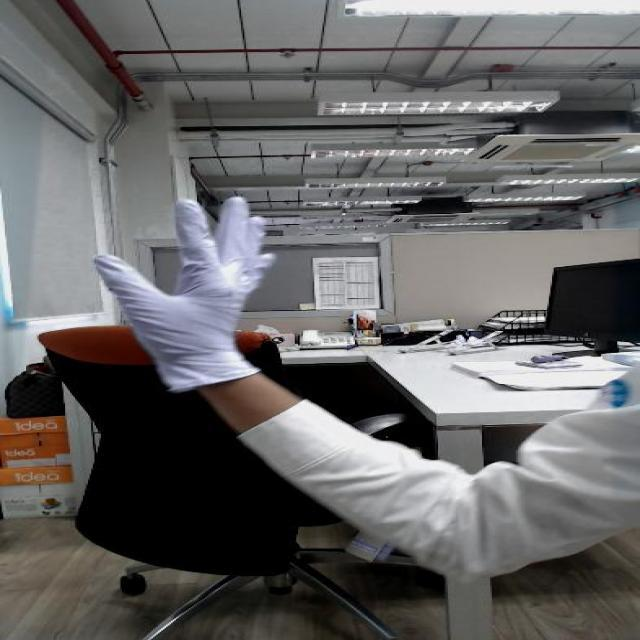with_gloves: (84, 192, 291, 346)
